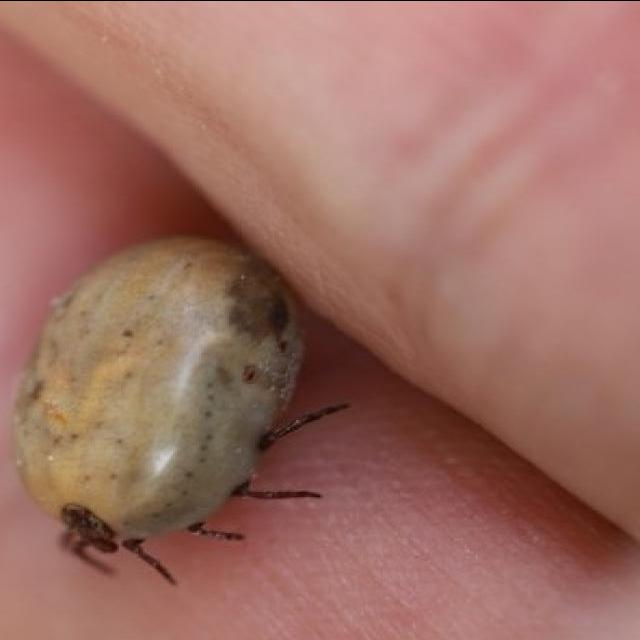Dermacentor Reticulatus-F-Fed: (13, 232, 352, 584)
